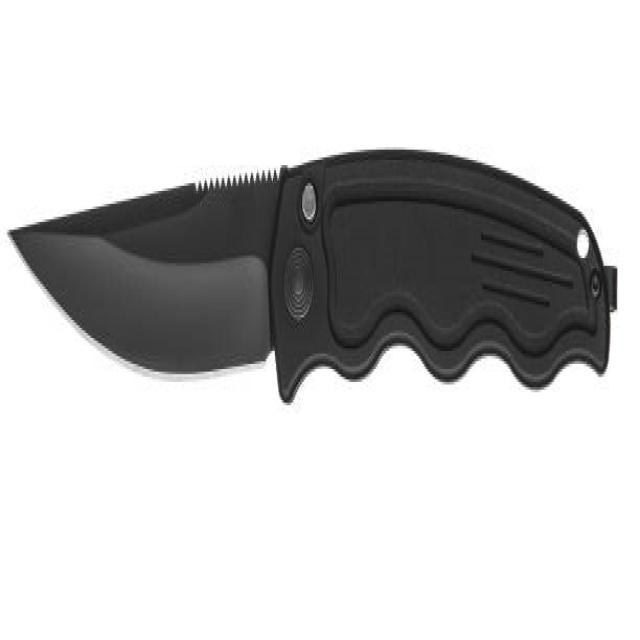knife: (6, 144, 617, 408)
